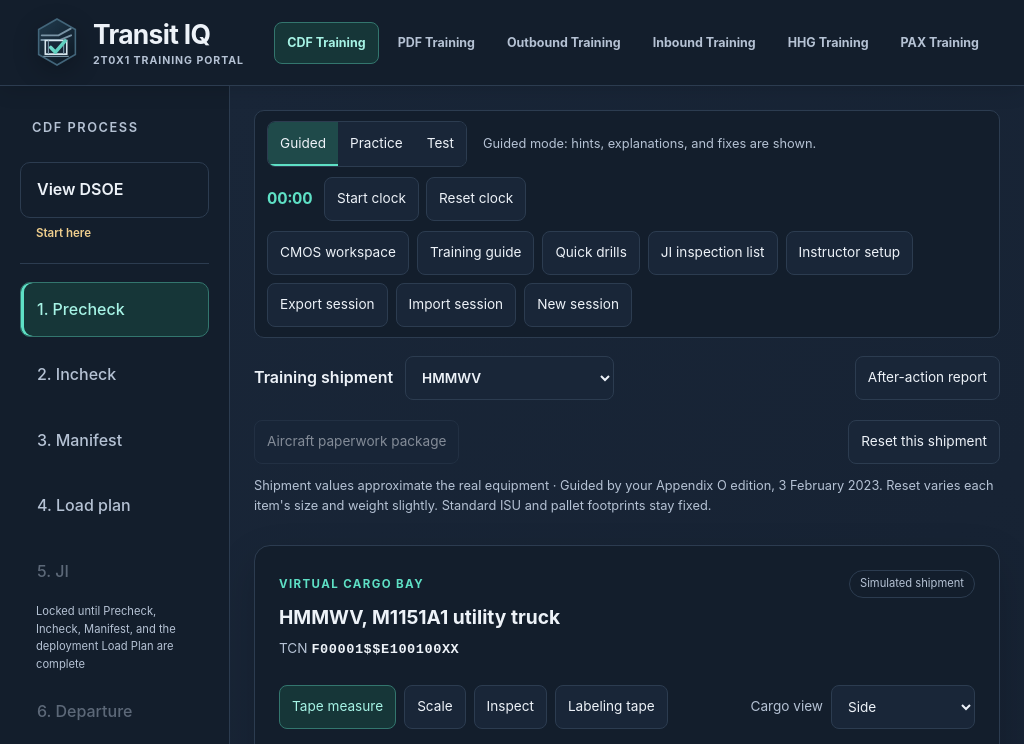
opens the outbound trainer with its process steps in order
Click the tab "Outbound Training" at [564, 42], box x1=494 y1=22 x2=634 y2=64
(page scrolled)
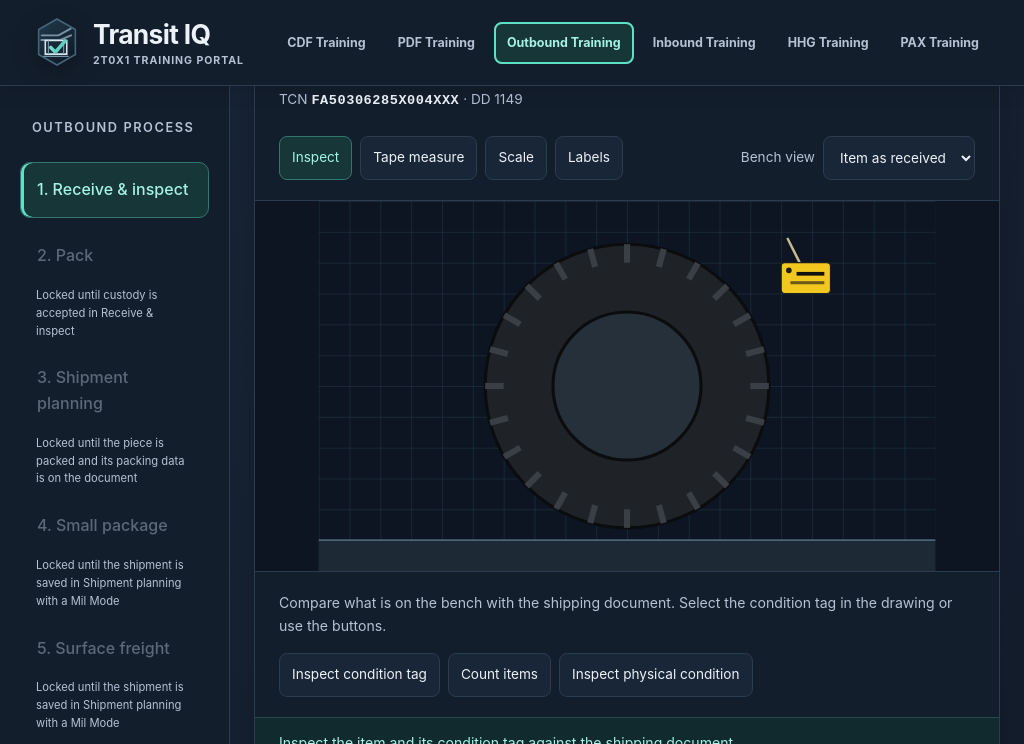
Result: the button "2. Pack" is disabled at x1=20 y1=228 x2=209 y2=284
